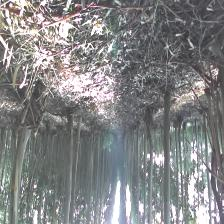trunk: (9, 108, 36, 221), (162, 91, 171, 219), (64, 113, 73, 216), (146, 110, 154, 223)
